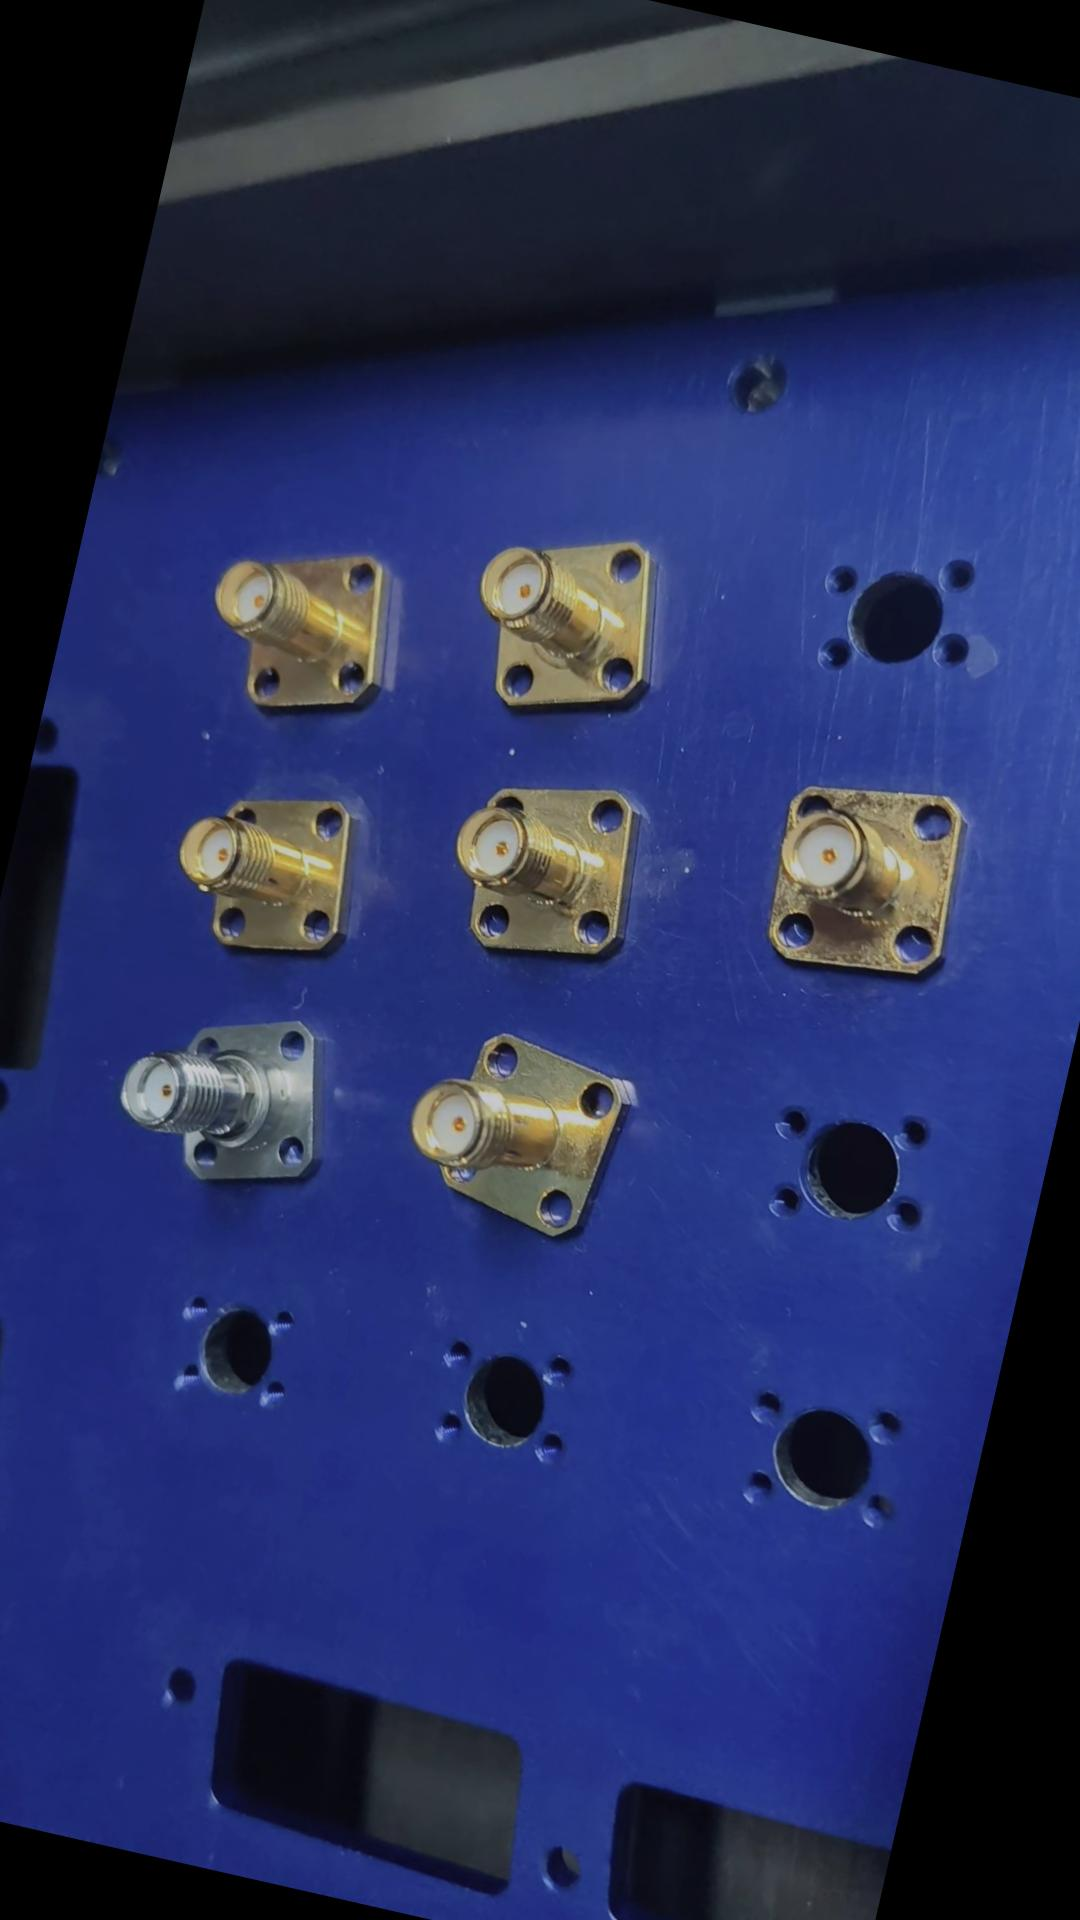SMA: (390, 1011, 649, 1257), (458, 508, 691, 742), (756, 760, 986, 994), (435, 756, 665, 981), (109, 986, 351, 1199), (194, 527, 415, 740), (164, 771, 381, 971)
